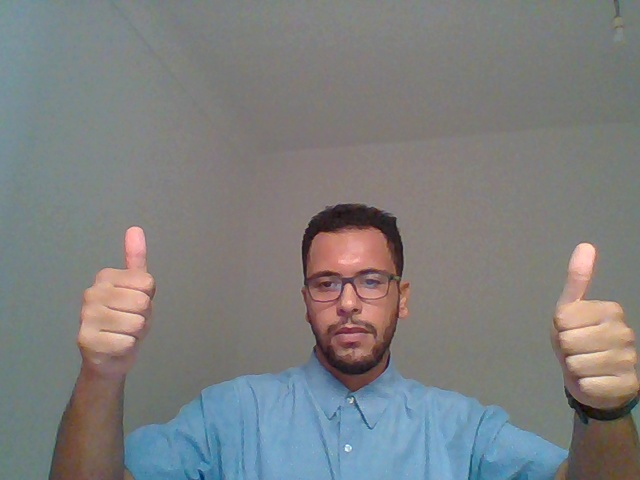ok: (503, 224, 640, 450), (51, 208, 173, 419)
